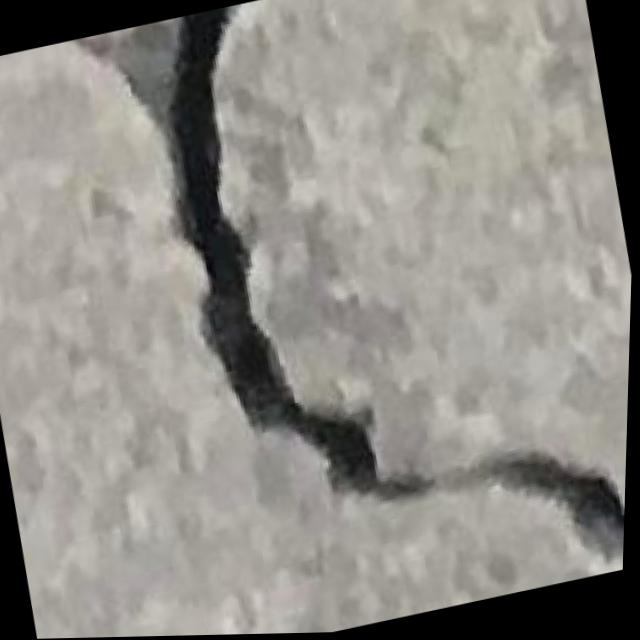Crack: (57, 0, 640, 639)
